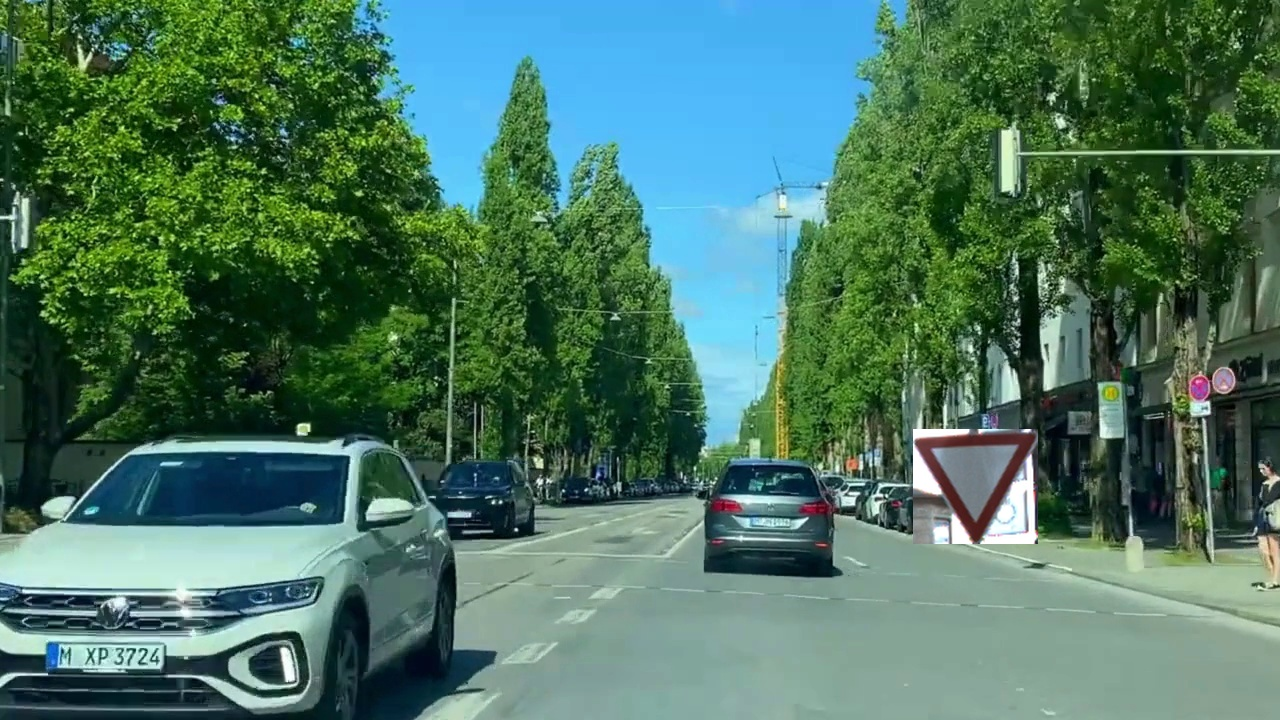Yield: (913, 429, 1038, 544)
